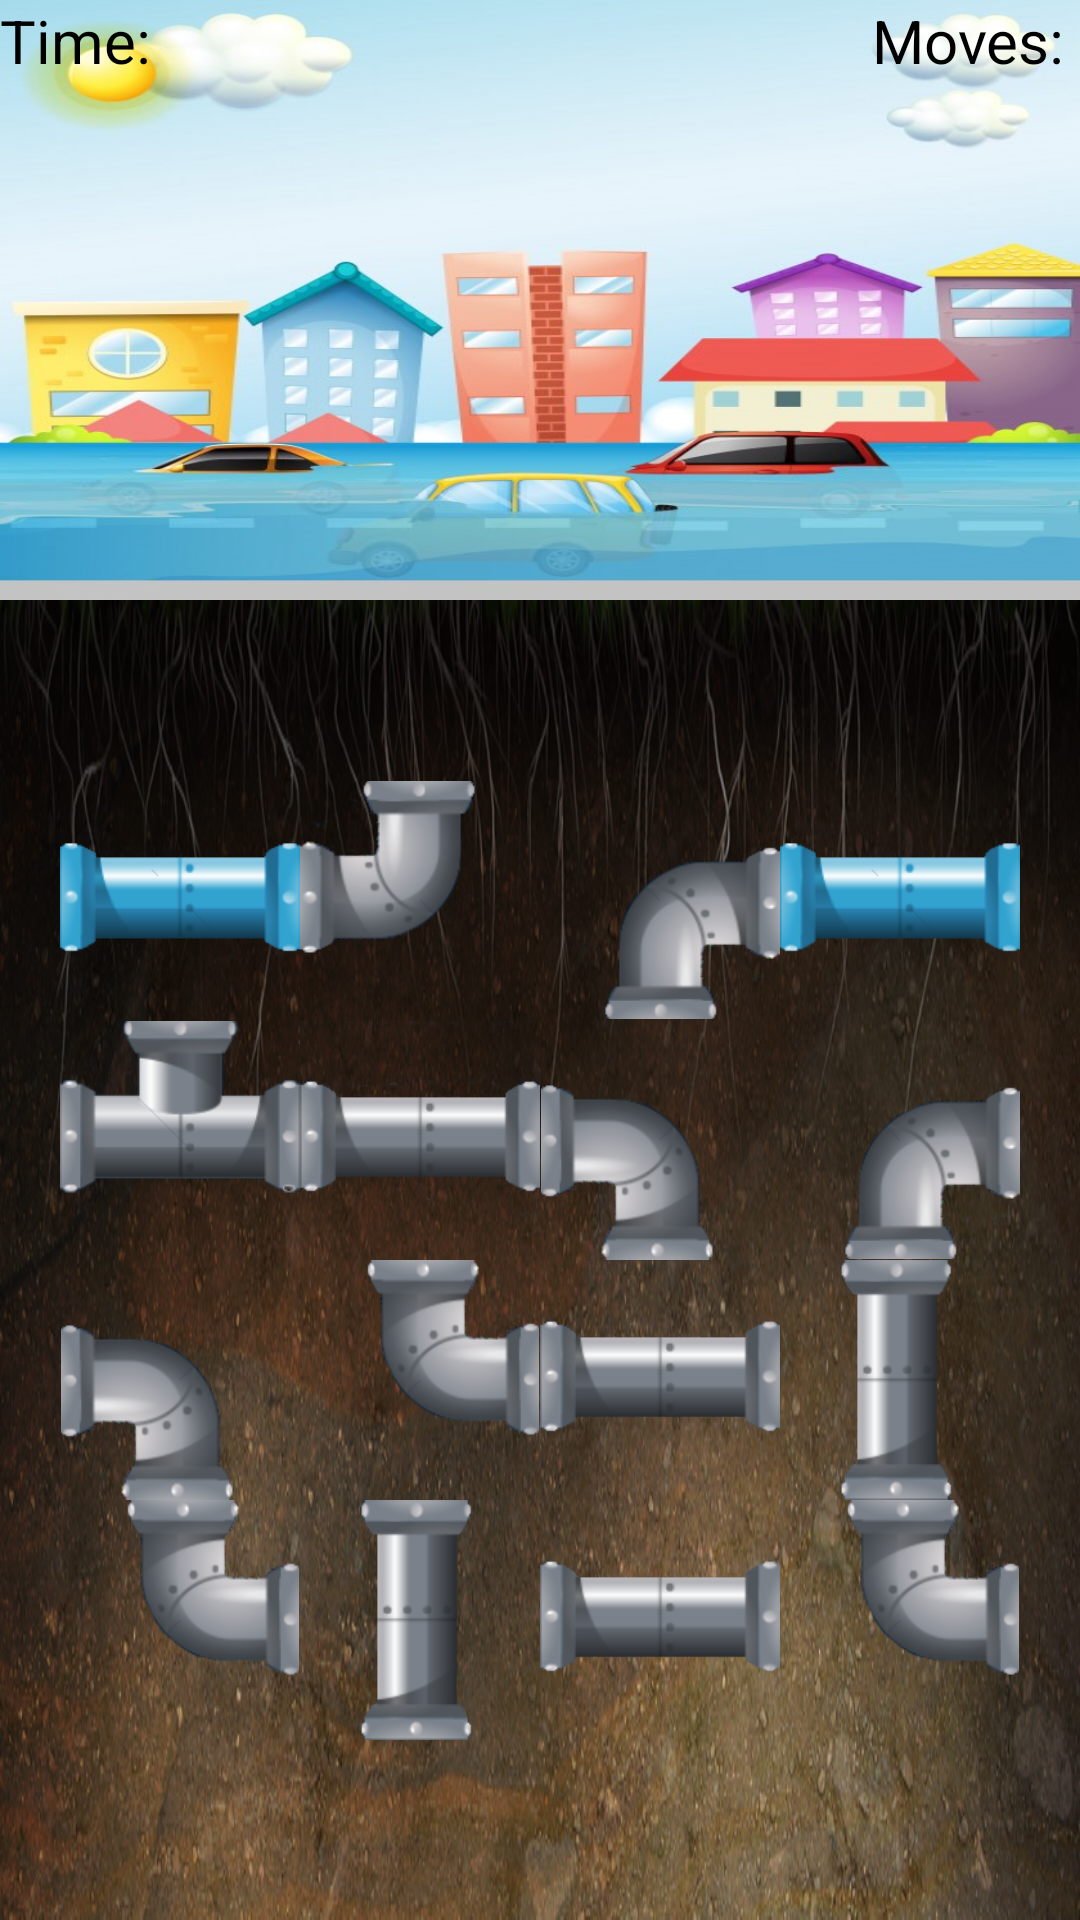

Point at icon controls on the screen. Image size 1080px×1920px, points as [x,y].
pipe borders leftbottom: [660,1140], [180,1380]
pipe borders lefttop: [420,900]
pipe borders rightbottom: [661,900], [900,1140]
pipe borders righttop: [420,1380], [180,1620], [900,1620]
pipe fork top: [180,1140]
pipe straight: [180,900], [900,900], [420,1140], [660,1380], [660,1620]
pipe vertical: [900,1380], [420,1620]
